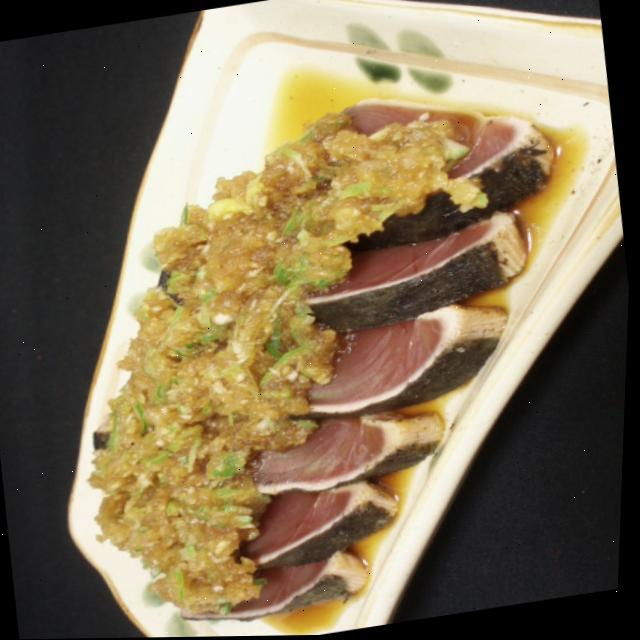熟制海鲜: (40, 49, 638, 639)
